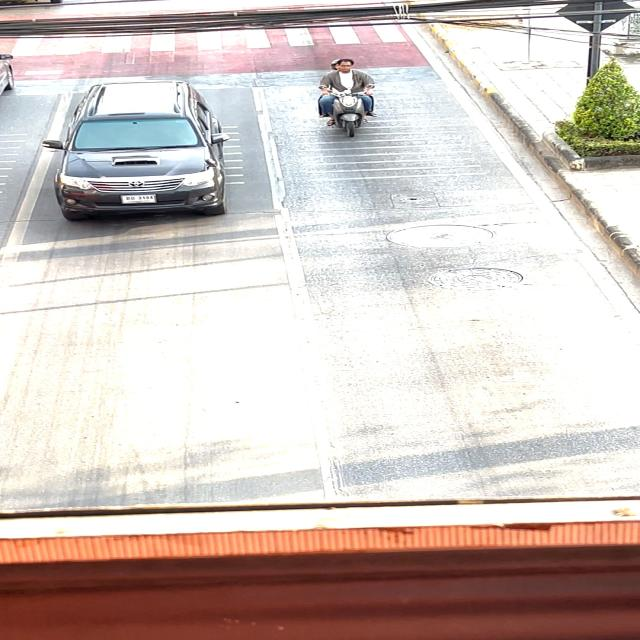car: (28, 68, 240, 232)
